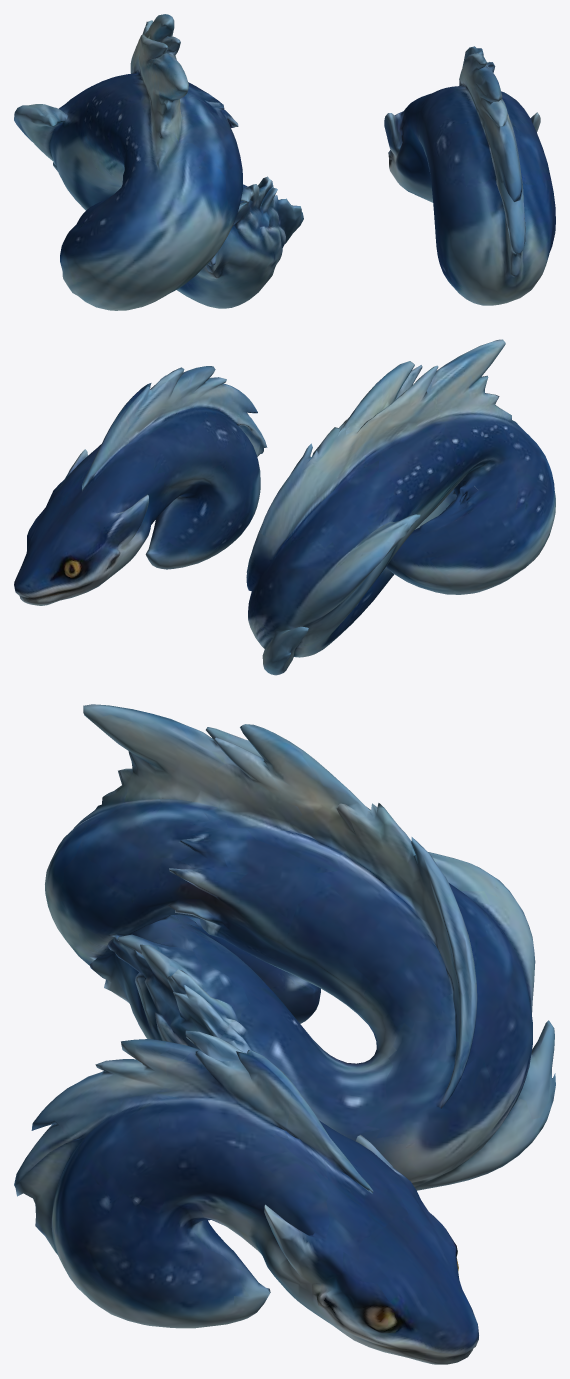
File: eel.glb
3 renders of one model, top to bottom at view 1: azimuth 30°, elevation 25°; view 2: azimuth 150°, elevation 25°; view 3: azimuth 270°, elevation 25°, orthographic. The views are drawn at different scales.
Visible parts, largest first — view 1: tripo_node_9d213180-97c0-4504-a9e3-b6dbbc3abe9b; view 2: tripo_node_9d213180-97c0-4504-a9e3-b6dbbc3abe9b; view 3: tripo_node_9d213180-97c0-4504-a9e3-b6dbbc3abe9b.
Boxes of the visible parts, x1,y1,x2,y2 form: tripo_node_9d213180-97c0-4504-a9e3-b6dbbc3abe9b: [14, 14, 555, 310]; tripo_node_9d213180-97c0-4504-a9e3-b6dbbc3abe9b: [14, 339, 555, 675]; tripo_node_9d213180-97c0-4504-a9e3-b6dbbc3abe9b: [14, 704, 555, 1364].
Bounding box in the file's own units: 0.8339 × 0.5 × 0.5808.
1 material, 1 textured.
